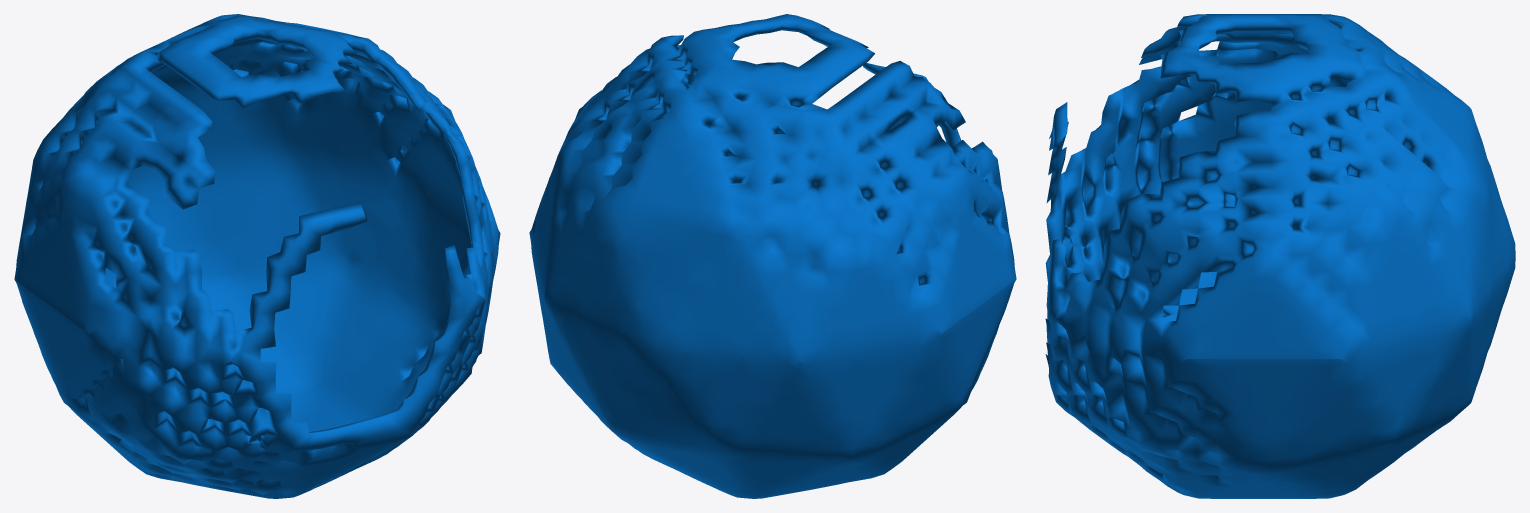
The model's file is booble.obj.
The picture shows the model from 3 angles, left to right: view 1: azimuth 30°, elevation 25°; view 2: azimuth 150°, elevation 25°; view 3: azimuth 270°, elevation 25°; orthographic projection. The views are drawn at different scales.
Parts seen in each view (by area): view 1: Icosphere; view 2: Icosphere; view 3: Icosphere.
Boxes of the visible parts, x1=… form: Icosphere: x1=14, y1=14, x2=500, y2=498; Icosphere: x1=529, y1=14, x2=1016, y2=498; Icosphere: x1=1045, y1=14, x2=1515, y2=498.
Bounding box in the file's own units: 1.9 × 1.91 × 1.83.
